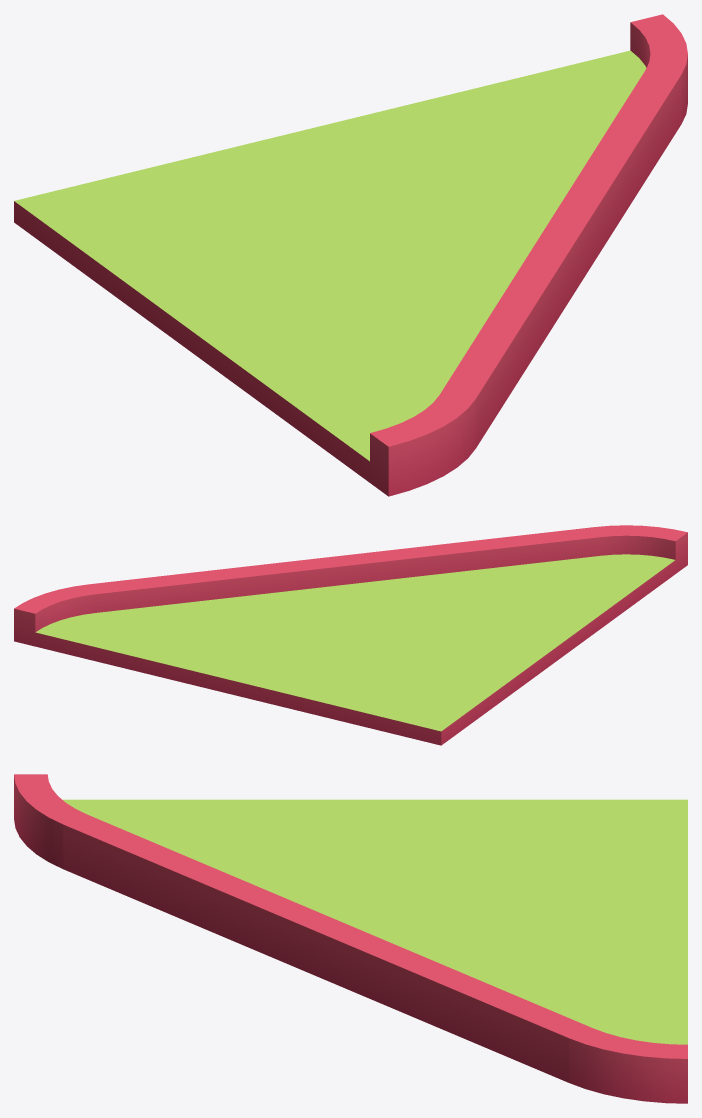
Rendered from skew-large-corner-open.fbx.
The picture shows the model from 3 angles, top to bottom: view 1: azimuth 30°, elevation 25°; view 2: azimuth 150°, elevation 25°; view 3: azimuth 270°, elevation 25°; orthographic projection. The views are drawn at different scales.
Visible parts, largest first — view 1: skew_large_corner_open; view 2: skew_large_corner_open; view 3: skew_large_corner_open.
Boxes of the visible parts, x1,y1,x2,y2 form: skew_large_corner_open: (14,14,687,496); skew_large_corner_open: (14,525,687,745); skew_large_corner_open: (14,774,687,1103).
Bounding box in the file's own units: 200 × 14.67 × 200.
